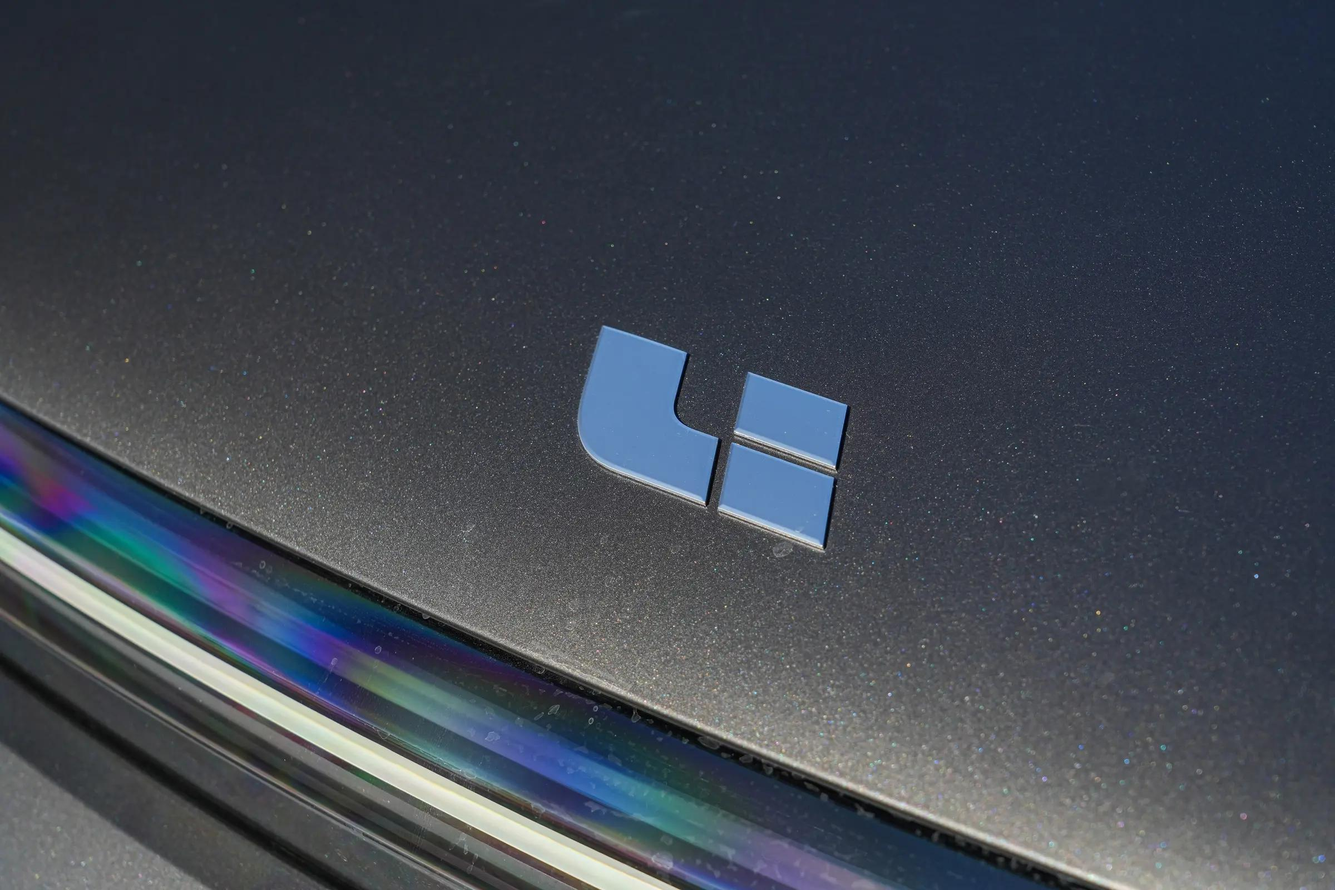Li Auto: (577, 323, 851, 550)
